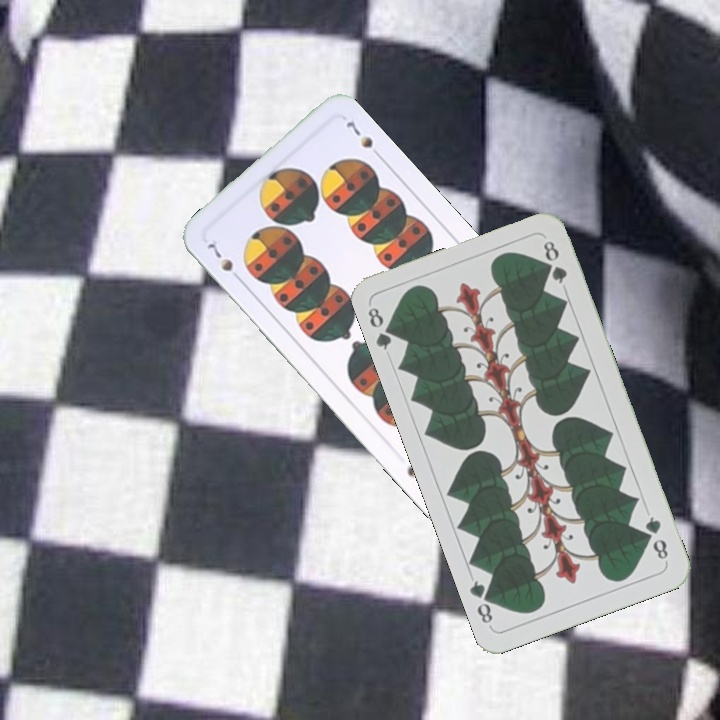G8: (363, 301, 400, 353), (641, 512, 671, 565)
S7: (201, 235, 245, 285)
